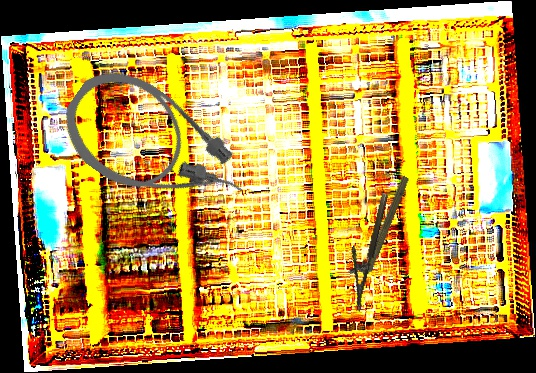Cannula: (47, 52, 262, 246)
Handpiece: (352, 173, 412, 293)
Needle Holder: (337, 189, 390, 312)
